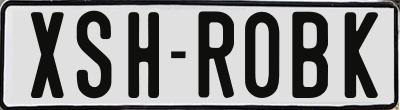0: (244, 11, 279, 103)
B: (289, 9, 331, 99)
H: (128, 10, 163, 100)
K: (344, 12, 383, 100)
R: (196, 8, 235, 97)
S: (76, 9, 116, 99)
X: (30, 12, 67, 101)
